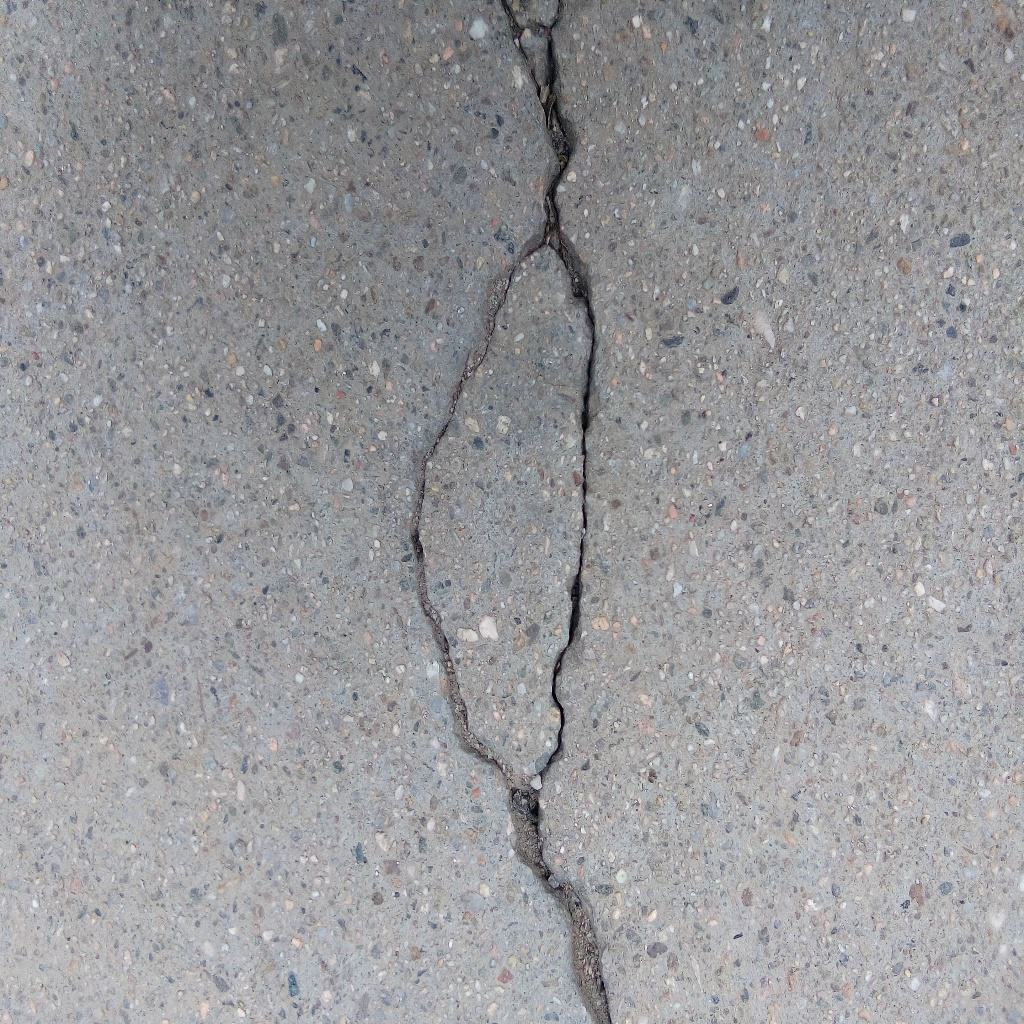Crack: (407, 1, 615, 1024)
